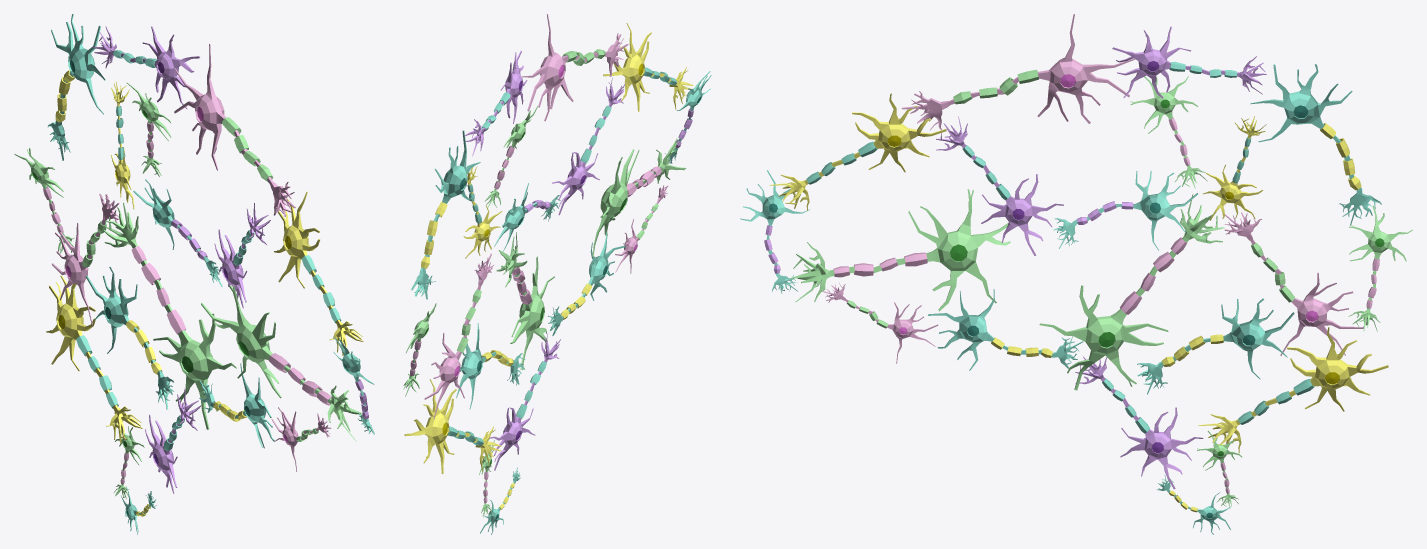
The model's file is neural_network-transformed.glb.
3 views of the same model, side by side, from view 1: azimuth 30°, elevation 25°; view 2: azimuth 150°, elevation 25°; view 3: azimuth 270°, elevation 25° (orthographic). The views are drawn at different scales.
Parts seen in each view (by area): view 1: polySurface48_lightGreen_0; view 2: polySurface48_lightGreen_0; view 3: polySurface48_lightGreen_0.
Boxes of the visible parts, x1=… form: polySurface48_lightGreen_0: x1=14, y1=14, x2=374, y2=534; polySurface48_lightGreen_0: x1=403, y1=14, x2=711, y2=534; polySurface48_lightGreen_0: x1=740, y1=14, x2=1412, y2=534.
Bounding box in the file's own units: 0.3294 × 3.01 × 3.5.
1 material, 1 textured.
